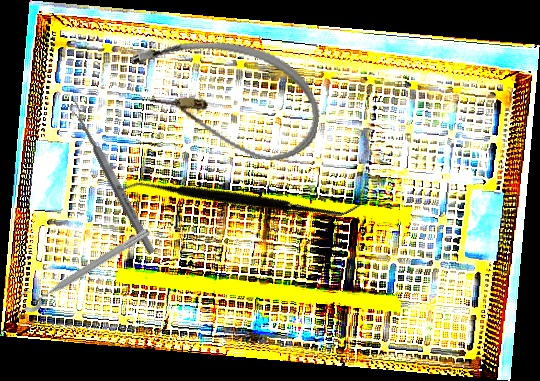Cannula: (117, 24, 331, 171)
Fixation Ring: (14, 217, 154, 317)
Spatula Surgical: (119, 98, 361, 296)
Surgical Spoon: (67, 101, 158, 256)
